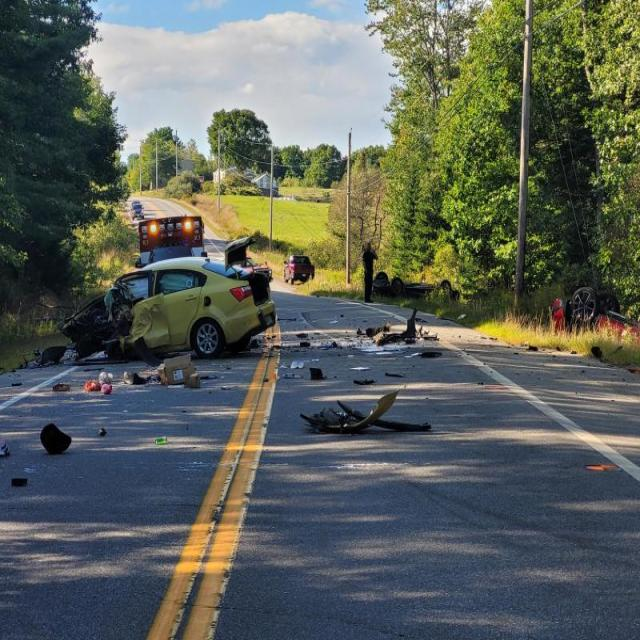Accident: (70, 247, 274, 368)
